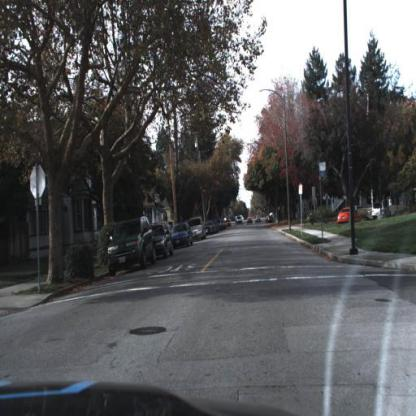car: (105, 214, 160, 282), (154, 221, 178, 261), (152, 222, 174, 259), (188, 215, 210, 248), (172, 222, 195, 252), (173, 223, 195, 250), (191, 217, 207, 243), (339, 208, 363, 224)
